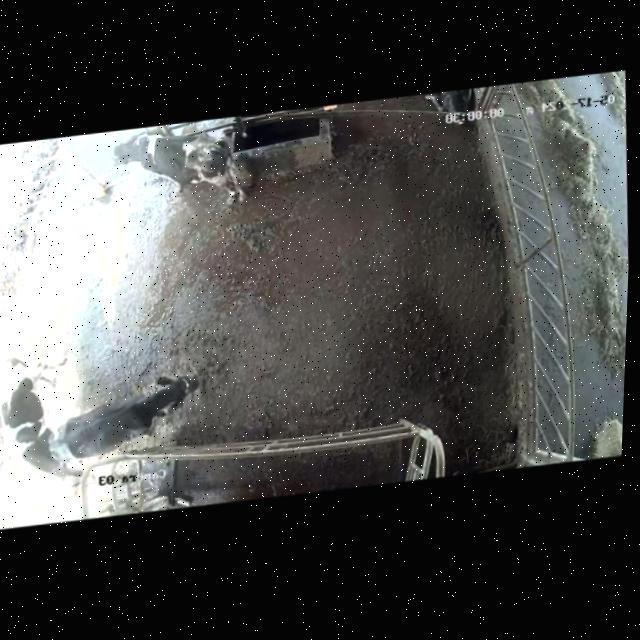stand: (99, 117, 261, 228), (47, 353, 210, 463), (0, 340, 89, 513)
